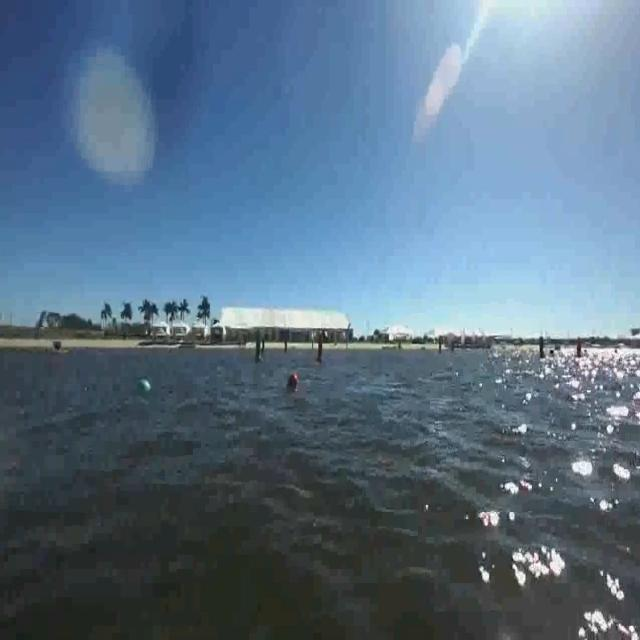green-buoy: (134, 375, 151, 398)
green-column-buoy: (254, 333, 263, 365)
red-buoy: (290, 372, 298, 384)
red-column-buoy: (316, 336, 326, 364)
